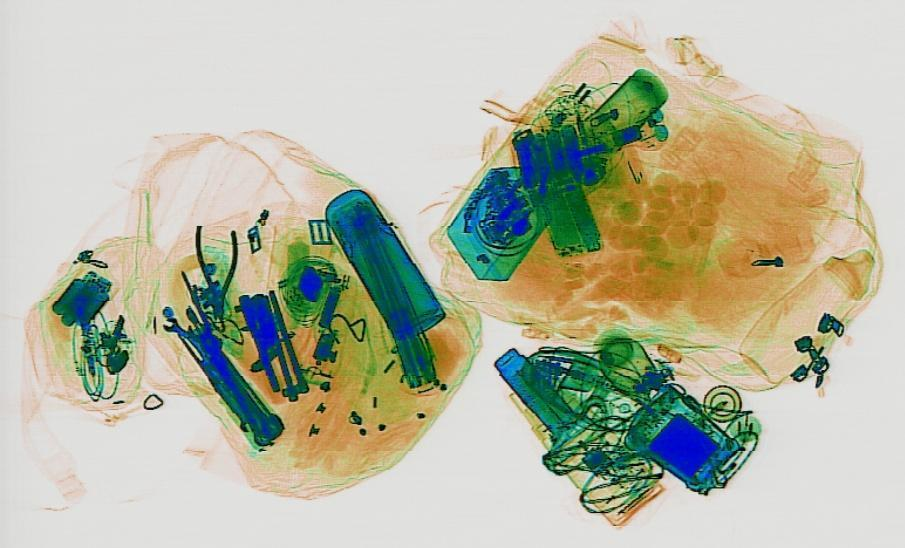Pliers: (190, 225, 240, 330)
